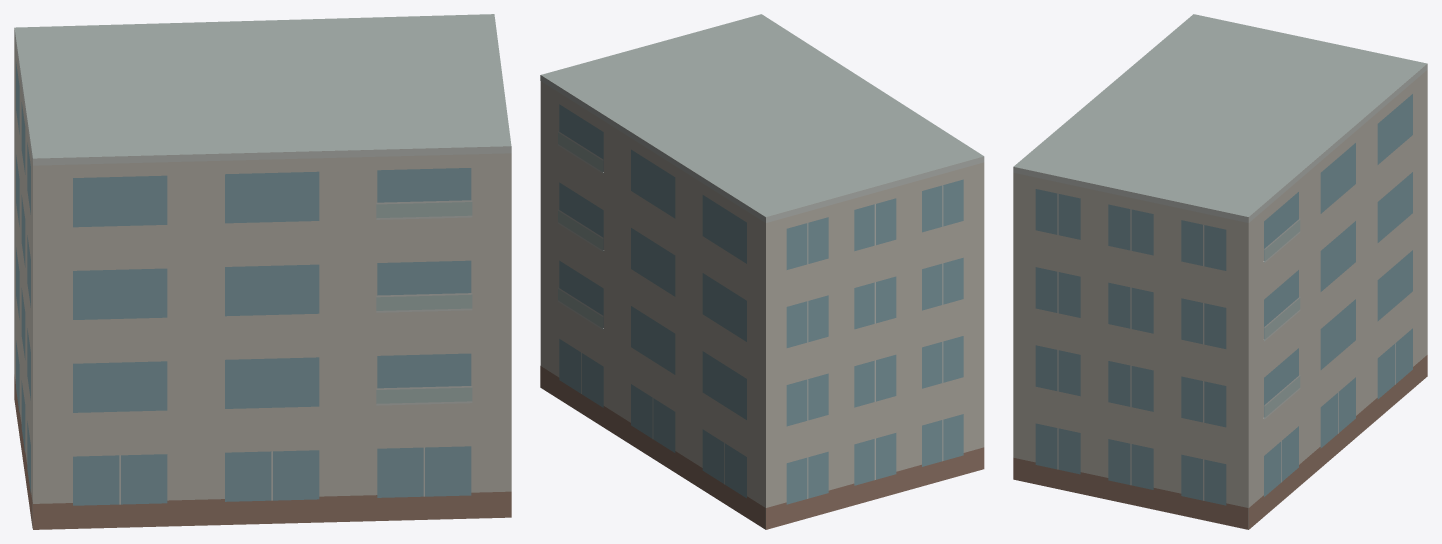
The model's file is survey-upis-32991416.glb.
The picture shows the model from 3 angles, left to right: view 1: azimuth 30°, elevation 25°; view 2: azimuth 150°, elevation 25°; view 3: azimuth 270°, elevation 25°; orthographic projection. The views are drawn at different scales.
Parts seen in each view (by area): view 1: survey-upis-32991416.tmp; view 2: survey-upis-32991416.tmp; view 3: survey-upis-32991416.tmp.
Boxes of the visible parts, box(x1,y1,x2,y2) form: survey-upis-32991416.tmp: box(14, 14, 511, 529); survey-upis-32991416.tmp: box(540, 14, 984, 529); survey-upis-32991416.tmp: box(1013, 14, 1427, 529).
Bounding box in the file's own units: 17.84 × 12.8 × 15.38.
